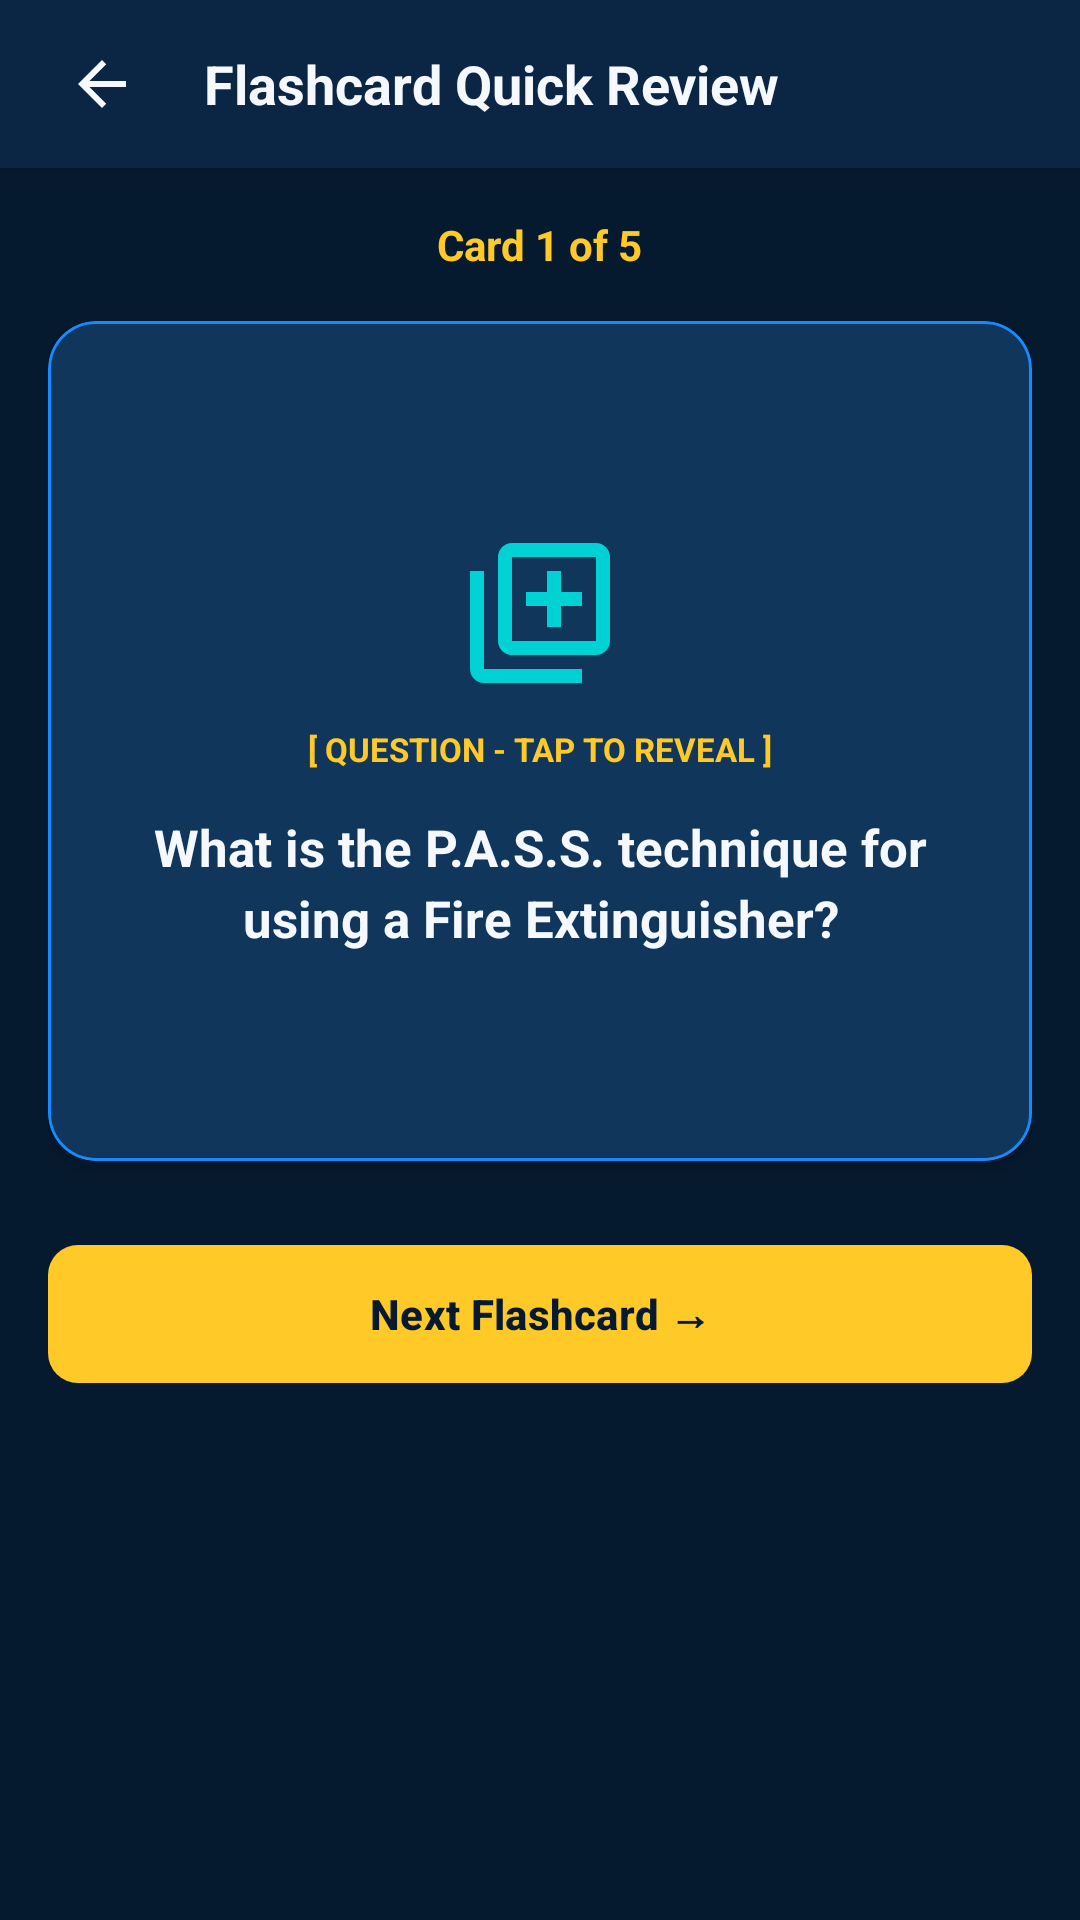

Icons on this 1080px×1920px Android screen, each with the point to tap as (x,y):
Back: (102,84)
Card Icon: (540,613)
